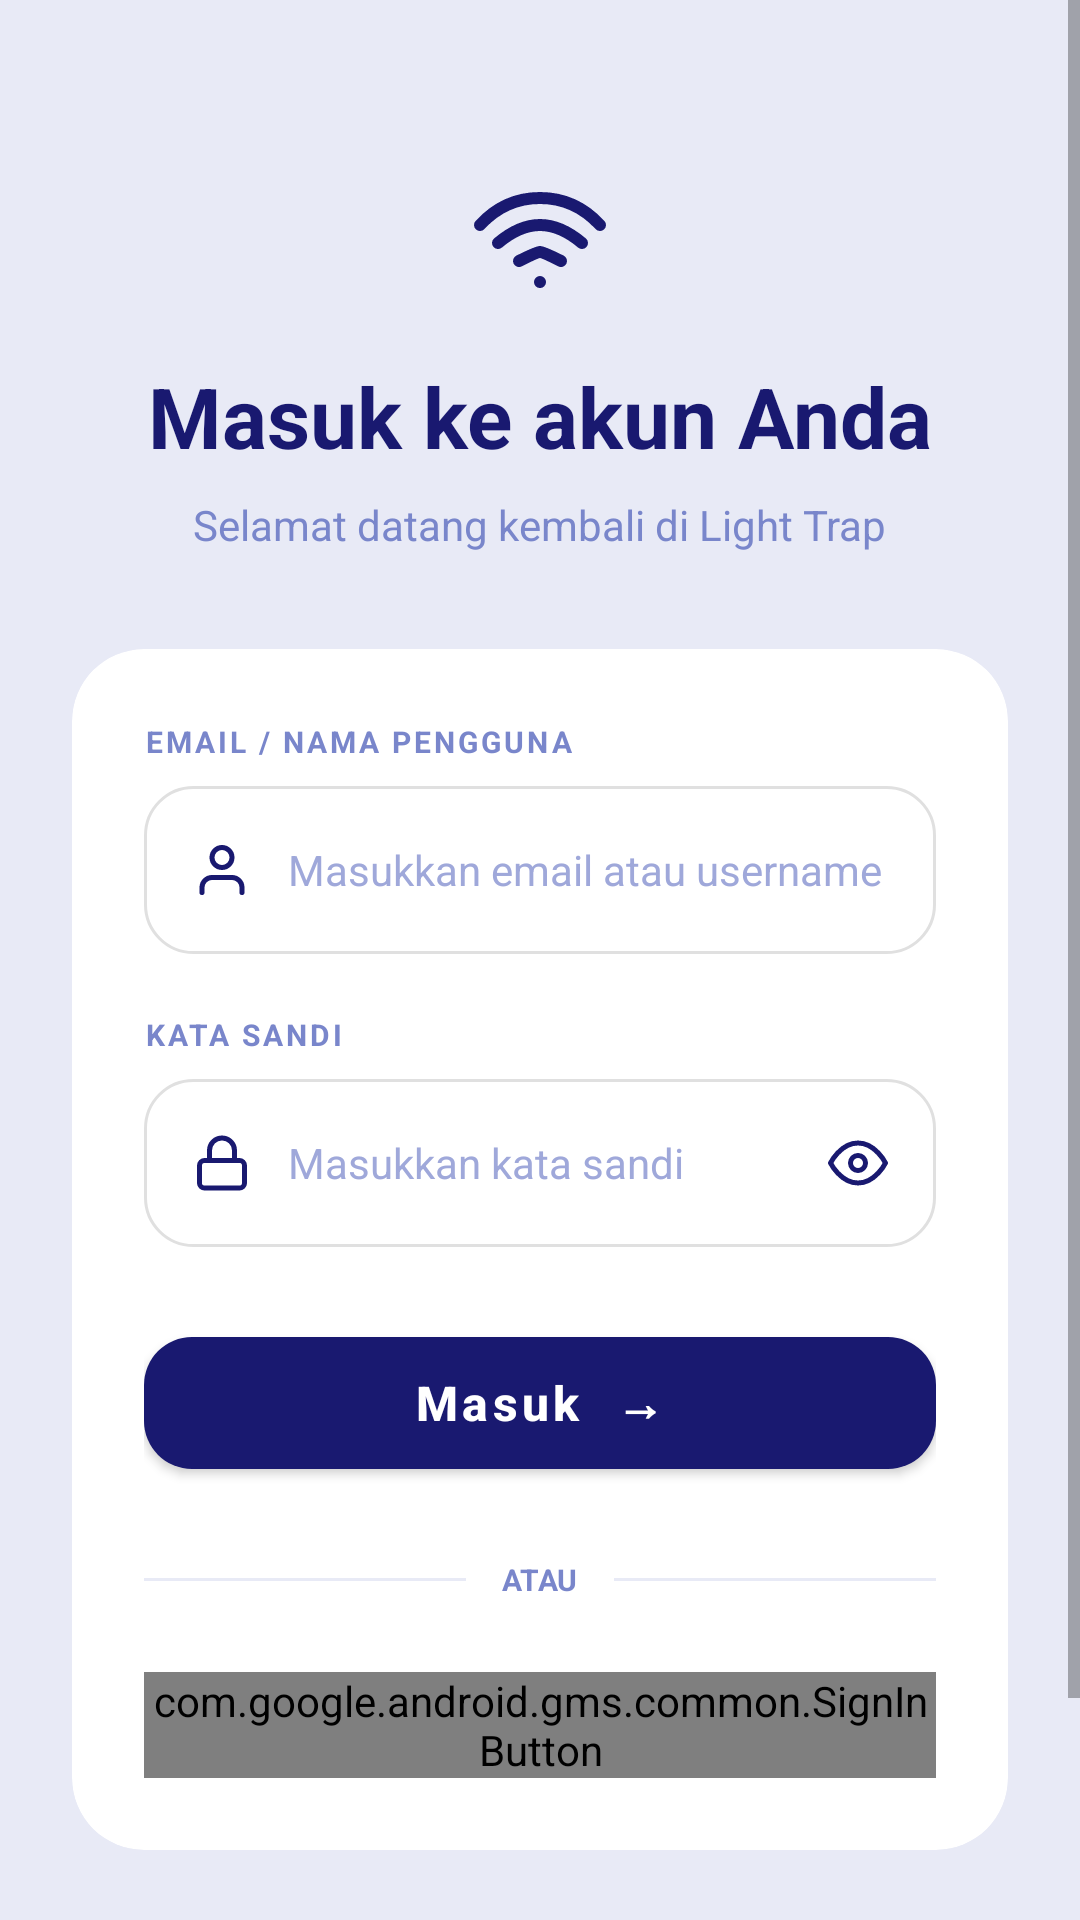

Icon bounding boxes for this 1080px×1920px phone screenshot, format [x1=x1, y1=y1, x2=x2, y2=y2]:
eye: [x1=828, y1=1140, x2=888, y2=1186]
lock: [x1=197, y1=1135, x2=247, y2=1191]
wifi custom: [x1=474, y1=192, x2=606, y2=288]
